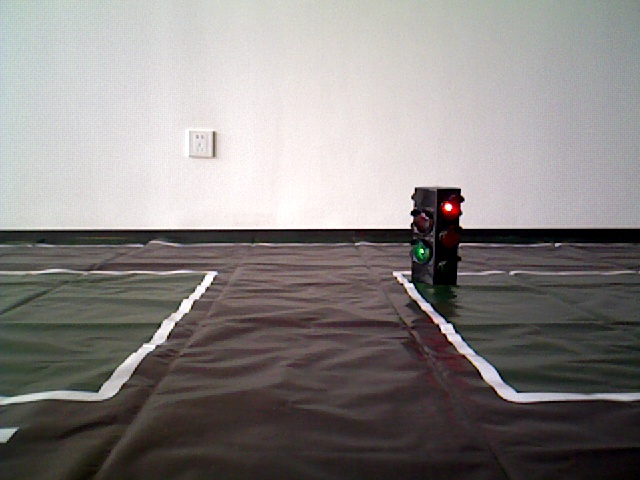red: (412, 188, 458, 287)
